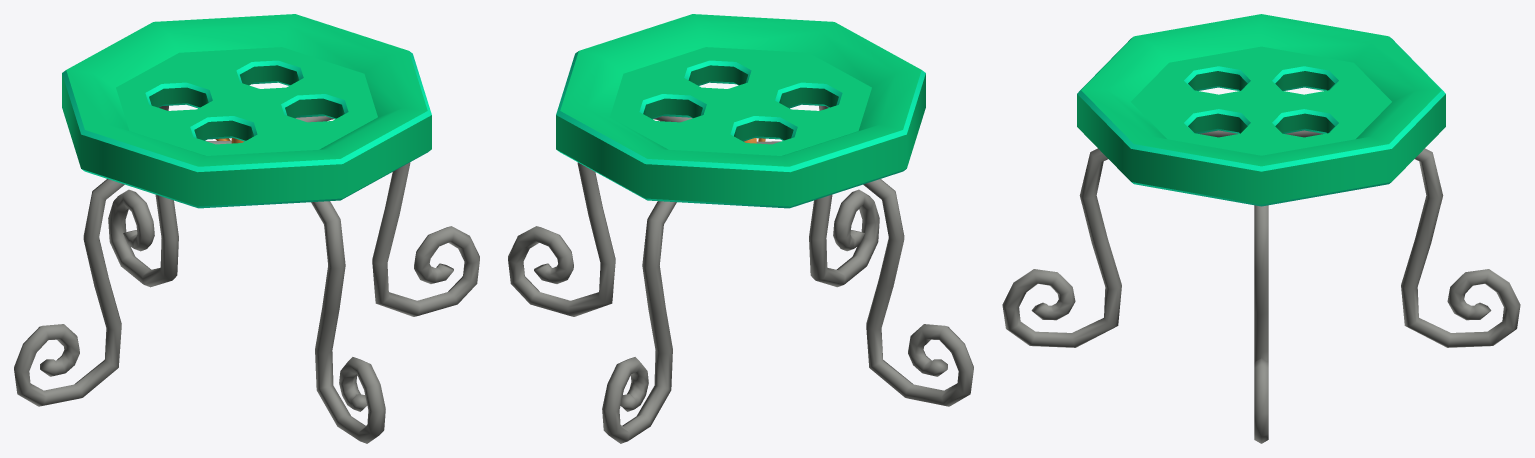
File: FancyStool.fbx
3 renders of one model, left to right at view 1: azimuth 30°, elevation 25°; view 2: azimuth 150°, elevation 25°; view 3: azimuth 270°, elevation 25°, orthographic. The views are drawn at different scales.
Parts seen in each view (by area): view 1: FancyStool; view 2: FancyStool; view 3: FancyStool.
Part boxes in pixels (bbox=[...]): FancyStool: bbox=[14, 14, 479, 443]; FancyStool: bbox=[508, 14, 973, 443]; FancyStool: bbox=[1002, 14, 1520, 443].
Bounding box in the file's own units: 1.23 × 0.6735 × 1.23.
